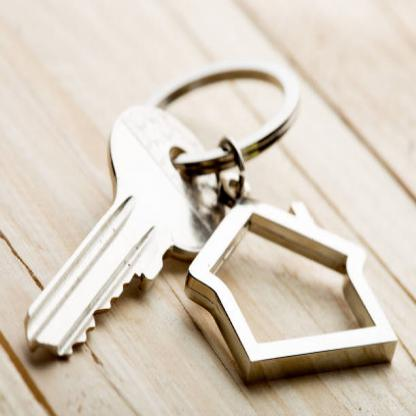keys: (24, 101, 240, 367)
